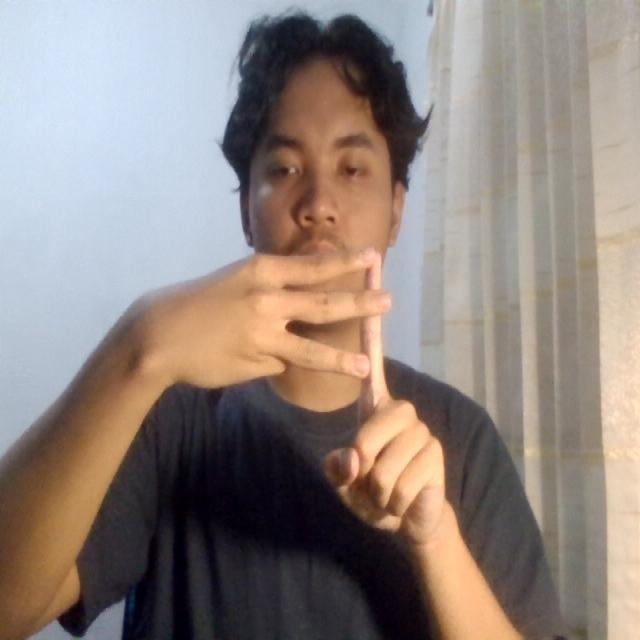B: (157, 225, 456, 563)
